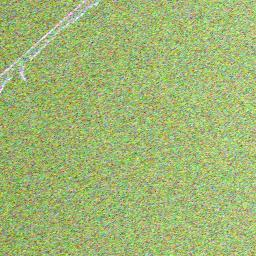Ship: (14, 19, 31, 42)
